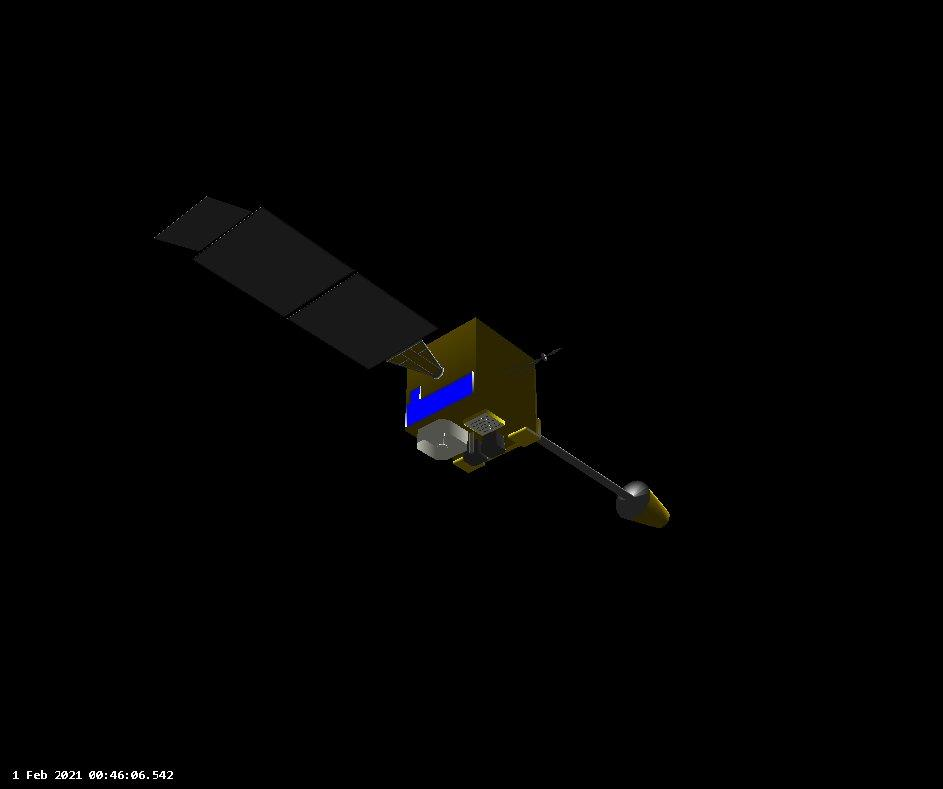antenna: (530, 426, 673, 534), (416, 418, 470, 463), (527, 344, 565, 367)
body: (398, 315, 542, 477)
solar: (151, 190, 450, 384), (404, 367, 478, 431)
